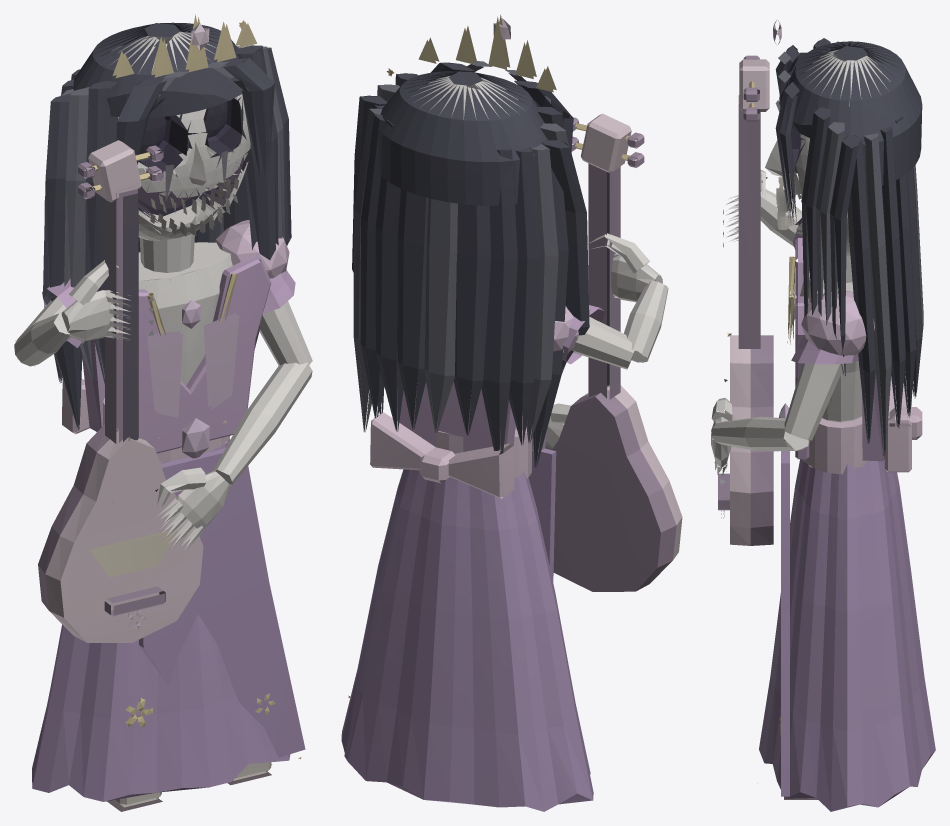
File: MimicPrincess.glb
3 renders of one model, left to right at view 1: azimuth 30°, elevation 25°; view 2: azimuth 150°, elevation 25°; view 3: azimuth 270°, elevation 25°, orthographic. The views are drawn at different scales.
Parts seen in each view (by area): view 1: Body, Head, ArmL, ArmR, LegR, LegL; view 2: Body, Head, ArmR, ArmL; view 3: Body, Head, ArmL, ArmR.
Boxes of the visible parts, x1,y1,x2,y2 form: Body: (32,140,305,801); Head: (43,14,291,430); ArmL: (140,220,312,571); ArmR: (14,260,153,366); LegR: (107,792,162,811); LegL: (227,762,271,785); Body: (341,113,682,811); Head: (352,14,589,467); ArmR: (553,233,668,369); ArmL: (545,403,570,449); Body: (718,55,935,811); Head: (765,19,923,460); ArmL: (711,291,874,484); ArmR: (723,170,802,249).
Bounding box in the file's own units: 3.08 × 7.63 × 2.07.
